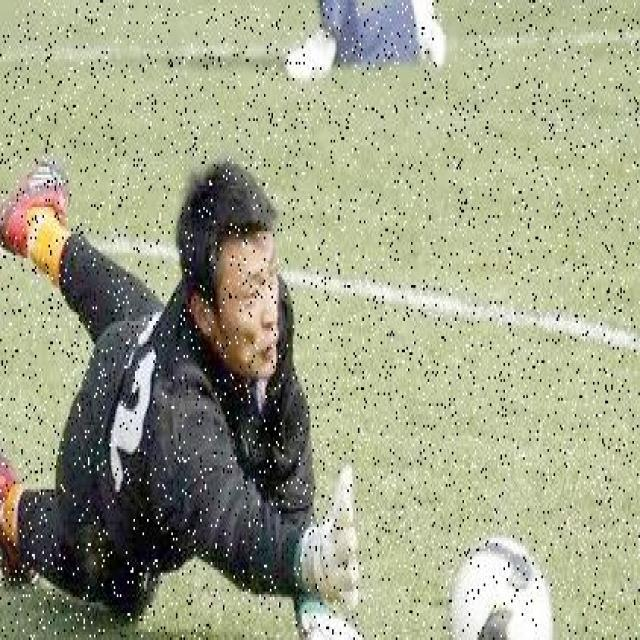fall: (0, 164, 370, 635)
